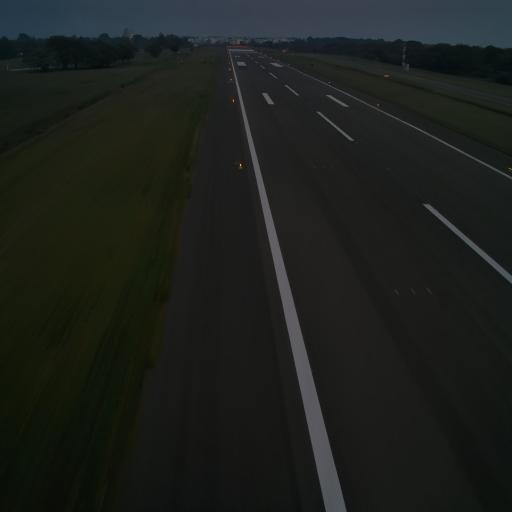off: (393, 285, 401, 299), (409, 286, 417, 299), (425, 286, 432, 299), (354, 138, 361, 149), (321, 162, 327, 174), (385, 162, 391, 173), (312, 164, 317, 171), (330, 163, 334, 171)
on: (235, 160, 243, 172), (507, 163, 512, 173), (375, 101, 381, 108)
